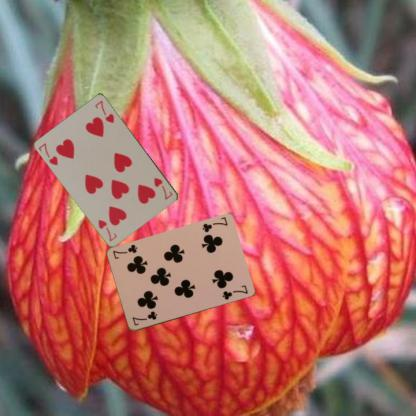7c: (199, 214, 229, 234), (130, 309, 158, 327)
7h: (36, 140, 59, 167), (151, 175, 174, 201)
